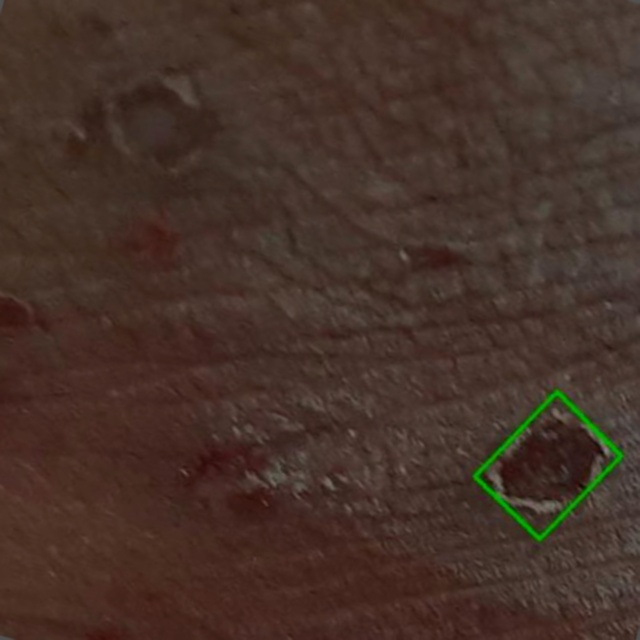Contact Dermatitis: (475, 392, 622, 540)
